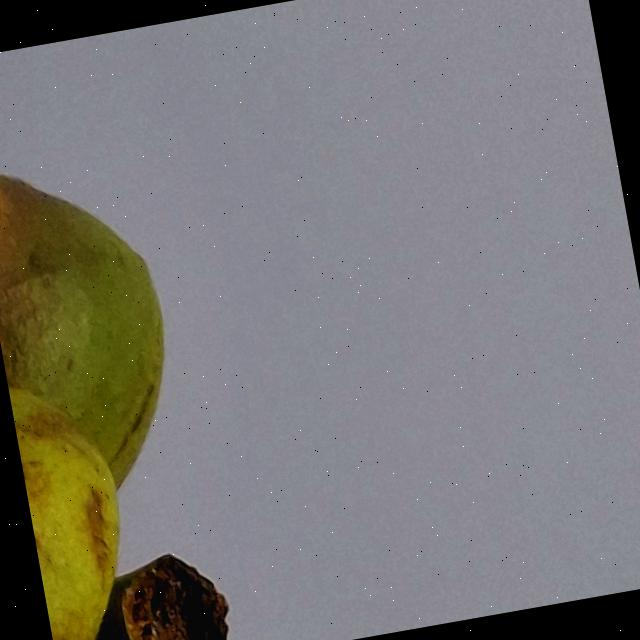mangosteen: (0, 25, 262, 640)
